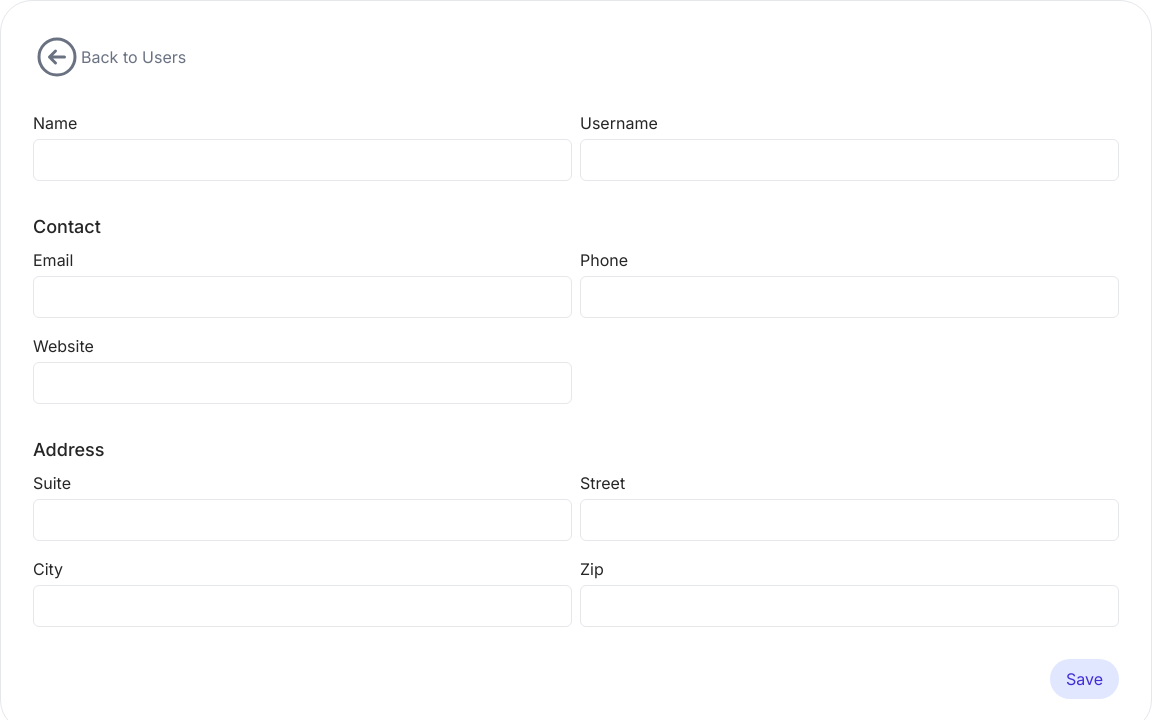
Test: UserCreate integration › shows validation errors when submitting empty form
Click the button "Save" at coordinates (1084, 679), box [1050,659,1119,699]
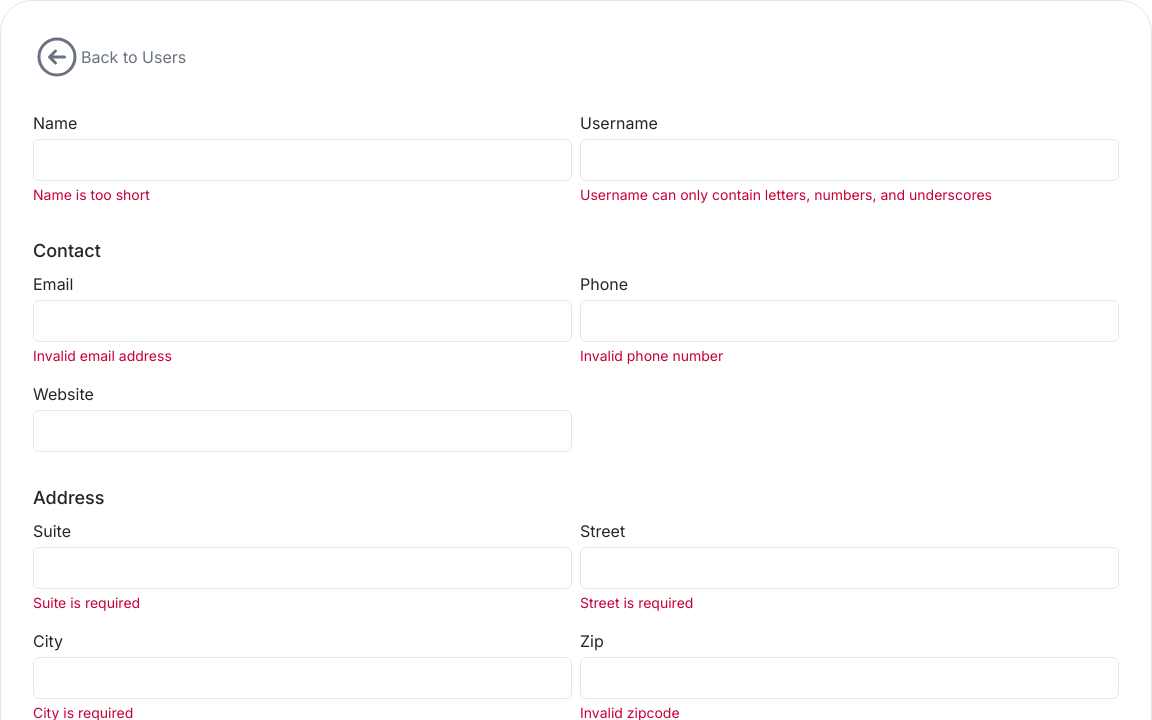
Check: the text "Name is too short" is shown, box [33,186,150,203]
